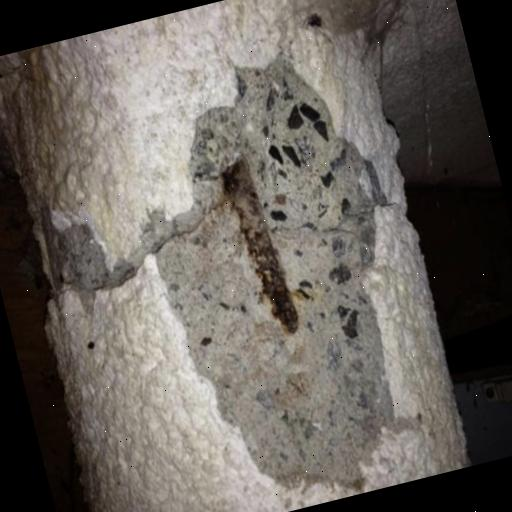spalling: (35, 53, 390, 482)
